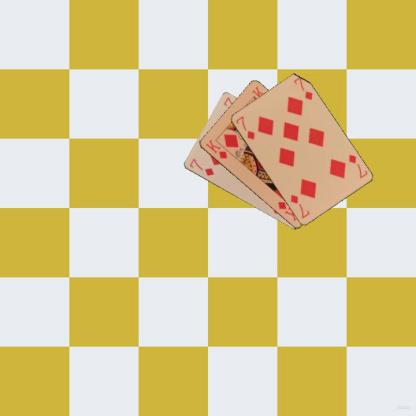7d: (346, 151, 368, 180), (187, 156, 215, 178), (233, 113, 255, 141)
Kd: (203, 136, 228, 160)
